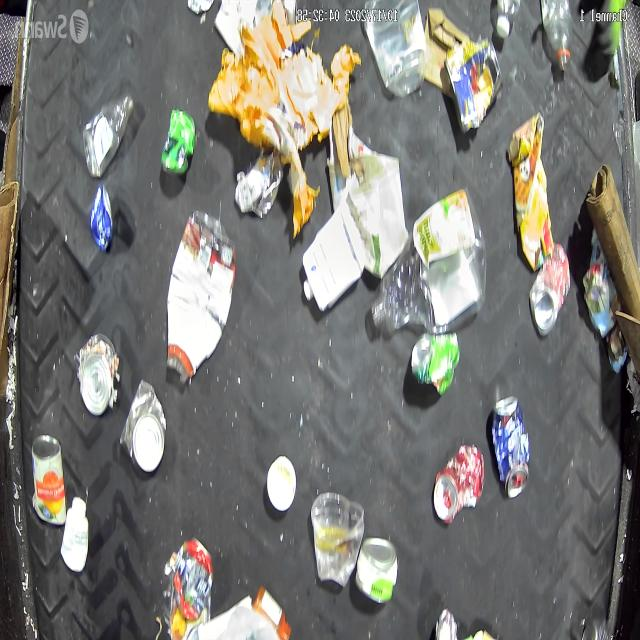can: (444, 37, 502, 135), (119, 379, 168, 475), (434, 444, 485, 525), (529, 240, 571, 336), (491, 395, 529, 499), (28, 428, 66, 528), (78, 332, 120, 415), (410, 334, 460, 395), (355, 538, 398, 604)
plastic_bottle: (371, 189, 487, 334), (82, 91, 136, 178)
